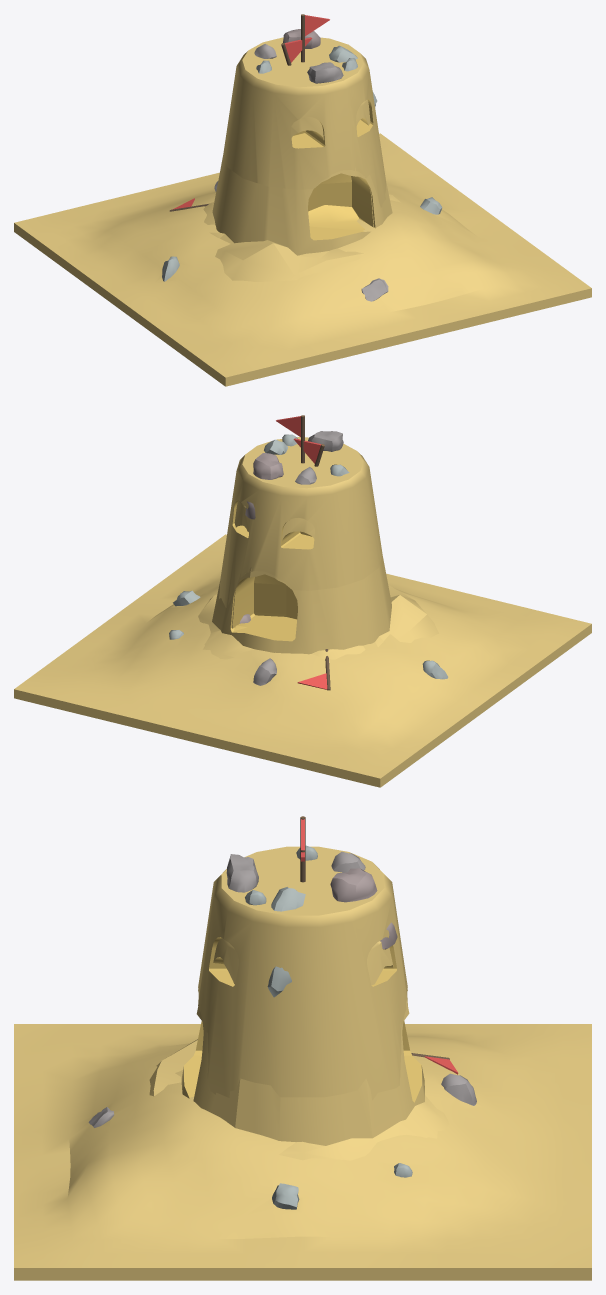
File: Sandcastle.fbx
3 renders of one model, top to bottom at view 1: azimuth 30°, elevation 25°; view 2: azimuth 150°, elevation 25°; view 3: azimuth 270°, elevation 25°, orthographic. The views are drawn at different scales.
Visible parts, largest first — view 1: SandcastleDead, SandcastleFull, SandcastleDamaged; view 2: SandcastleDead, SandcastleFull, SandcastleDamaged; view 3: SandcastleDead, SandcastleFull, SandcastleDamaged.
Boxes of the visible parts, x1,y1,x2,y2 form: SandcastleDead: [14, 133, 591, 386]; SandcastleFull: [223, 14, 386, 227]; SandcastleDamaged: [203, 37, 400, 281]; SandcastleDead: [14, 534, 591, 787]; SandcastleFull: [219, 415, 382, 628]; SandcastleDamaged: [198, 438, 438, 659]; SandcastleDead: [14, 1024, 591, 1280]; SandcastleFull: [198, 816, 407, 1100]; SandcastleDamaged: [149, 852, 449, 1160].
Size of the model in its own units: 84.04 by 54.7 by 84.04.
